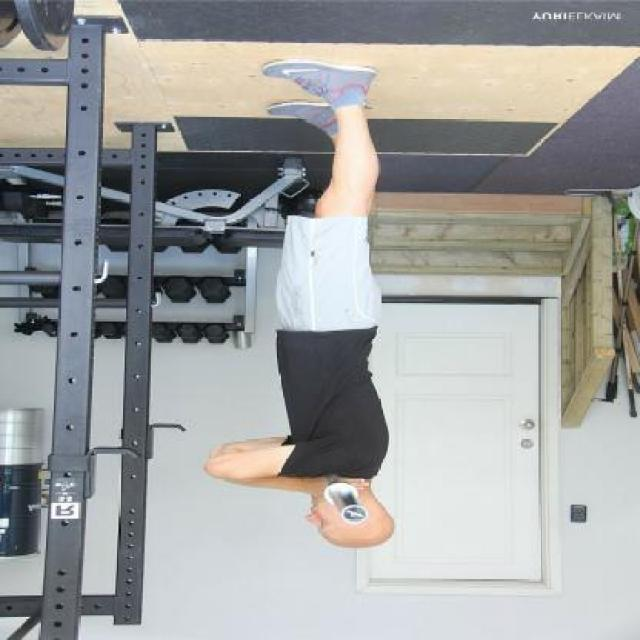Barbell: (336, 503, 372, 526)
